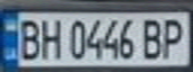0: (66, 16, 87, 60)
4: (84, 16, 106, 60), (103, 16, 121, 60)
6: (118, 16, 142, 61)
B: (12, 16, 42, 61), (139, 16, 169, 60)
H: (36, 15, 63, 61)
P: (157, 15, 190, 60)
